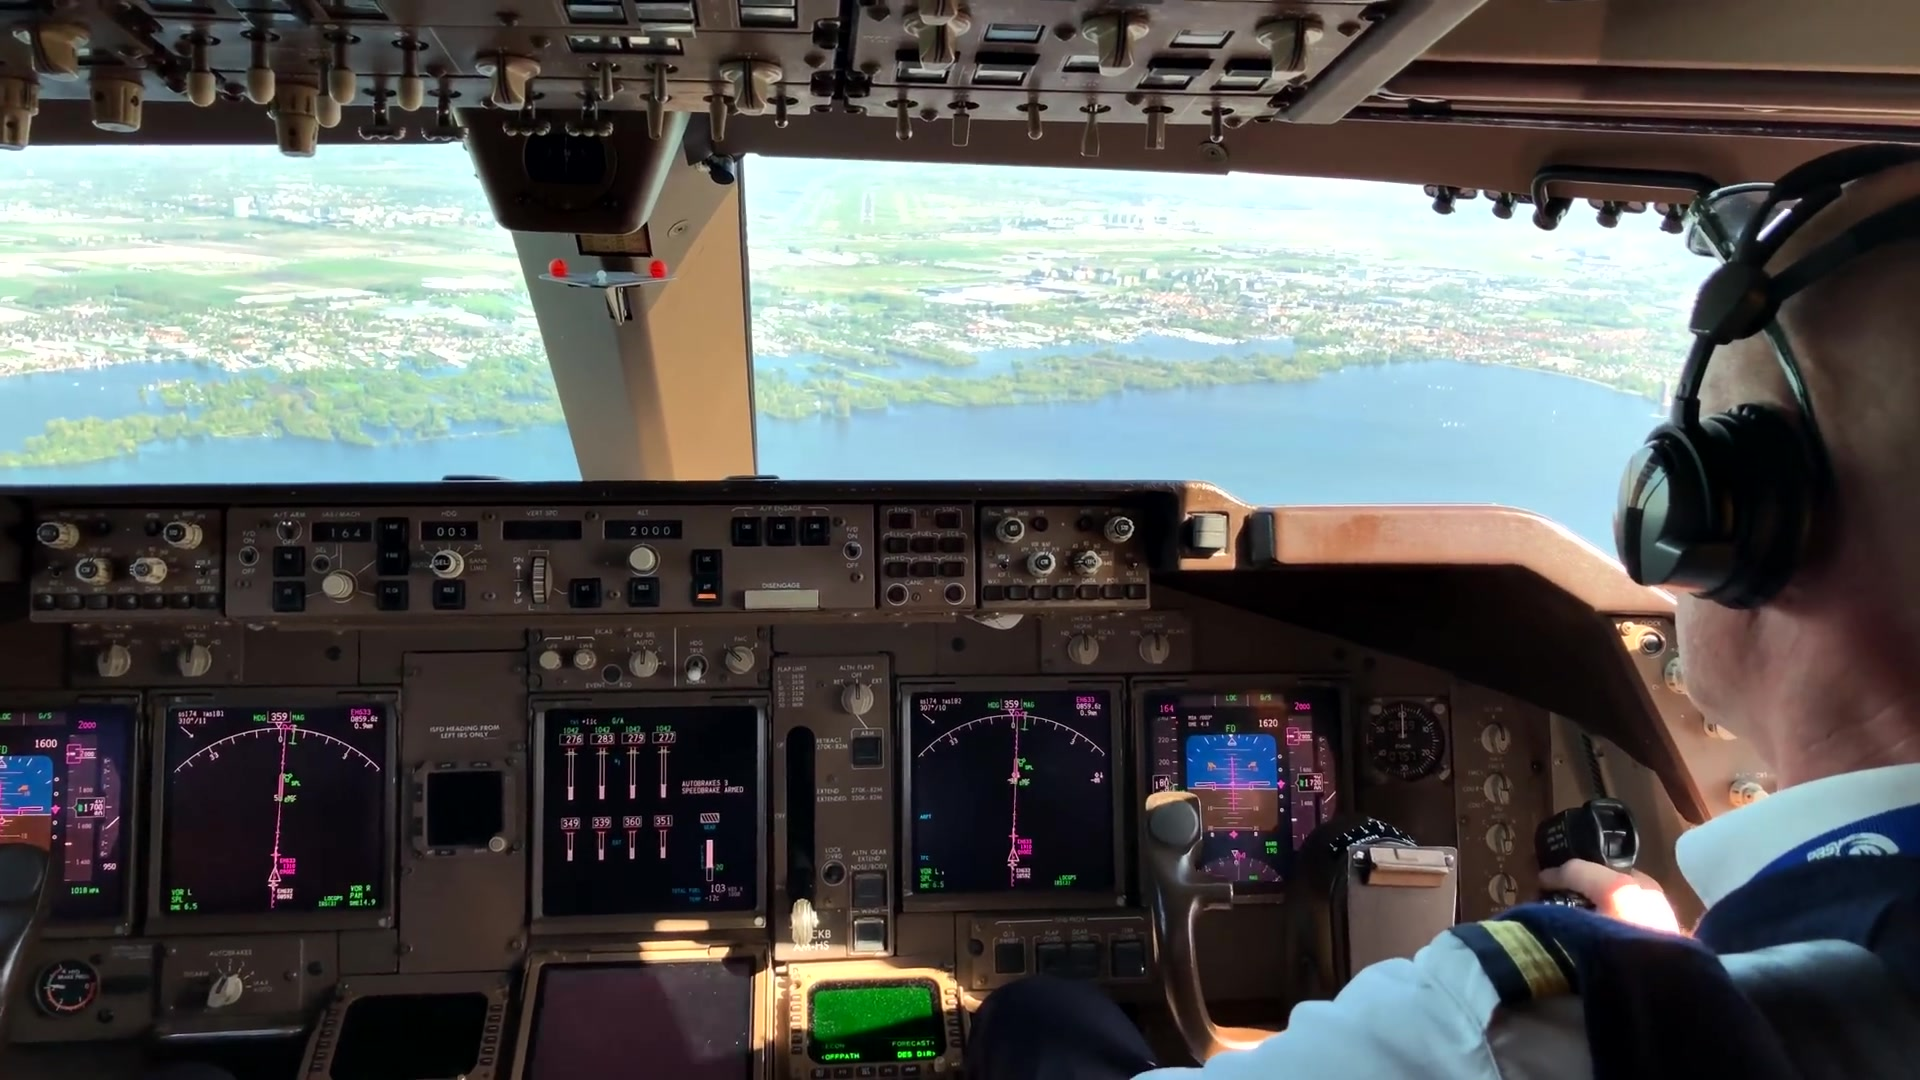runway: (858, 193, 873, 227)
